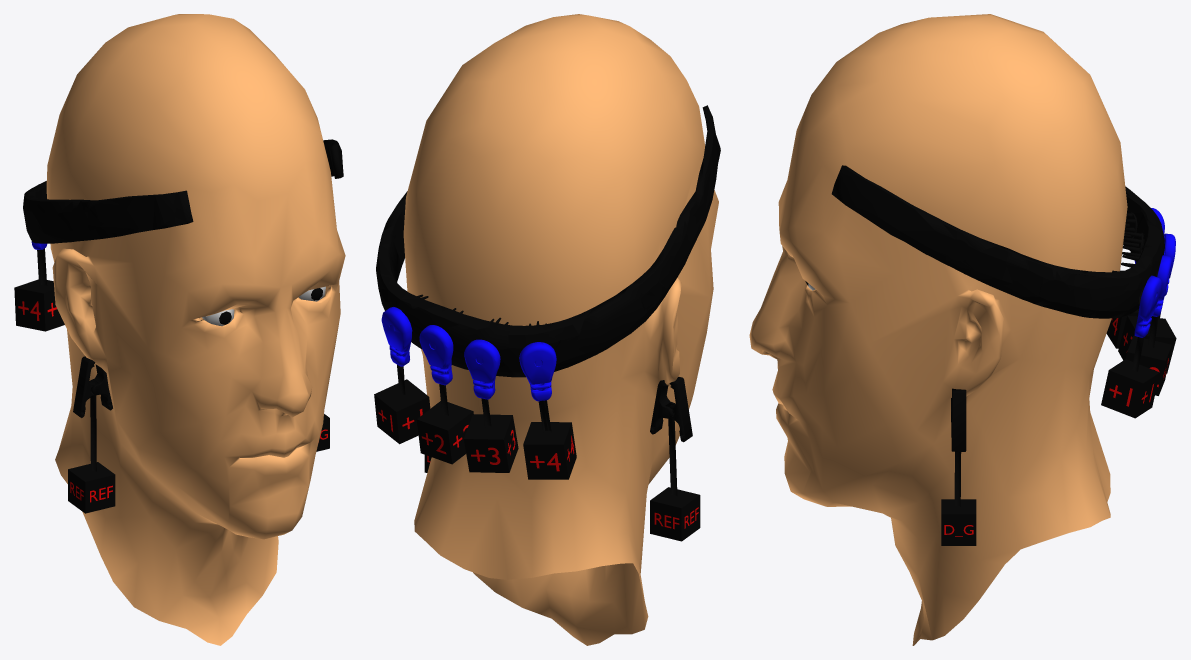
Rendered from SSVEP_headmodel.obj.
3 renders of one model, left to right at view 1: azimuth 30°, elevation 25°; view 2: azimuth 150°, elevation 25°; view 3: azimuth 270°, elevation 25°, orthographic. The views are drawn at different scales.
Parts seen in each view (by area): view 1: head, headband, A2, PO8; view 2: head, headband, PO8, O2, A2, O1, PO7; view 3: head, headband, PO7, A1, O1, O2, PO8.
Boxes of the visible parts, x1=… form: head: x1=46, y1=14, x2=345, y2=645; headband: x1=23, y1=139, x2=343, y2=243; A2: x1=68, y1=356, x2=115, y2=513; PO8: x1=14, y1=241, x2=64, y2=331; head: x1=403, y1=14, x2=718, y2=645; headband: x1=376, y1=105, x2=720, y2=377; PO8: x1=519, y1=321, x2=576, y2=479; O2: x1=463, y1=317, x2=518, y2=472; A2: x1=650, y1=377, x2=700, y2=541; O1: x1=416, y1=308, x2=473, y2=464; PO7: x1=374, y1=294, x2=430, y2=444; head: x1=749, y1=14, x2=1127, y2=645; headband: x1=831, y1=165, x2=1164, y2=318; PO7: x1=1101, y1=270, x2=1161, y2=418; A1: x1=941, y1=388, x2=976, y2=545; O1: x1=1119, y1=252, x2=1171, y2=395; O2: x1=1118, y1=231, x2=1176, y2=373; PO8: x1=1106, y1=208, x2=1164, y2=348.
Bounding box in the file's own units: 0.2185 × 0.4943 × 0.3072.
